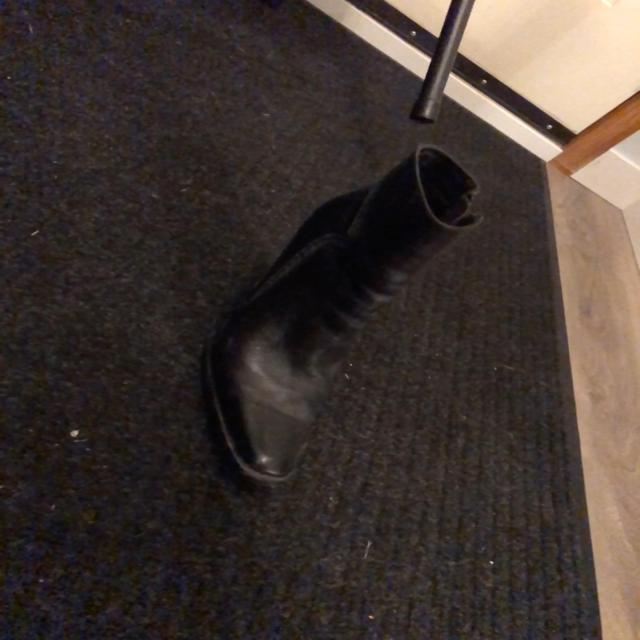shoe: (200, 146, 482, 485)
